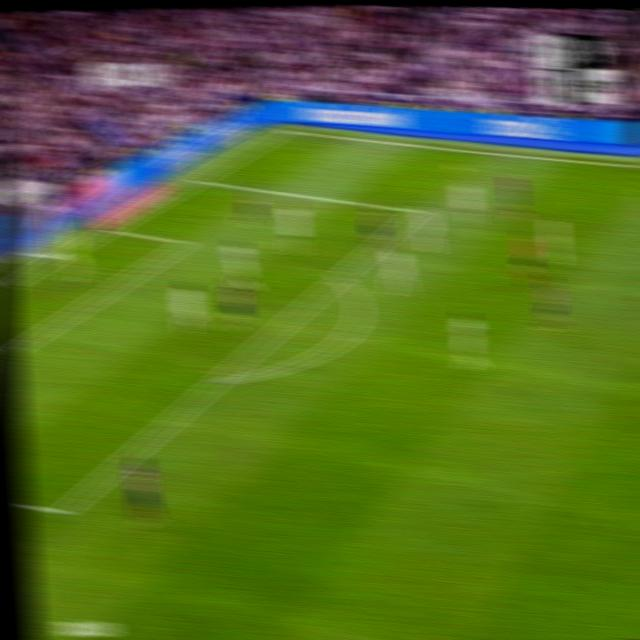bigarea_bottom_inner: (49, 496, 74, 527)
bigarea_top_inner: (408, 203, 425, 217)
bigarea_top_outter: (188, 170, 207, 186)
bottom_arc_area_intersection: (207, 368, 230, 390)
corner: (272, 124, 294, 136)
smallarea_top_inner: (175, 235, 194, 250)
top_arc_area_intersection: (327, 266, 349, 286)
